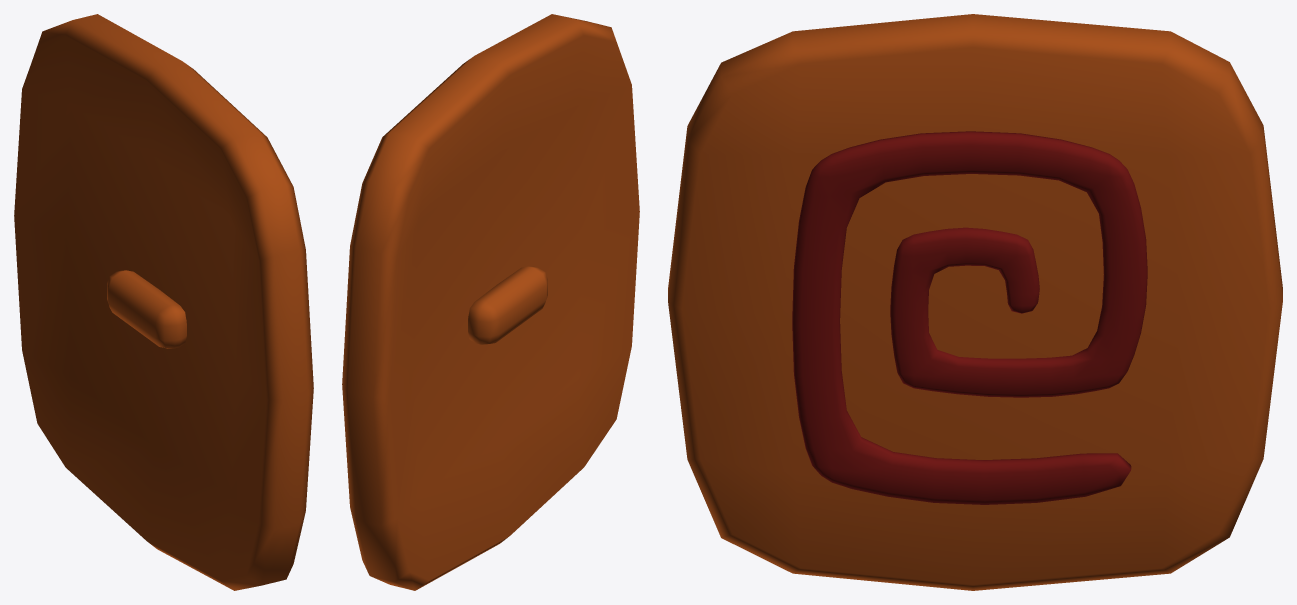
File: Shield.fbx
3 views of the same model, side by side, from view 1: azimuth 30°, elevation 25°; view 2: azimuth 150°, elevation 25°; view 3: azimuth 270°, elevation 25° (orthographic). The views are drawn at different scales.
Visible parts, largest first — view 1: Shield2, Shield3; view 2: Shield2, Shield3; view 3: Shield2, Shield4.
Boxes of the visible parts, x1,y1,x2,y2 form: Shield2: (14,14,313,590); Shield3: (107,270,186,348); Shield2: (342,14,639,590); Shield3: (468,266,547,344); Shield2: (668,14,1282,590); Shield4: (792,131,1147,504).
Size of the model in its own units: 0.8091 by 4.48 by 4.44.
